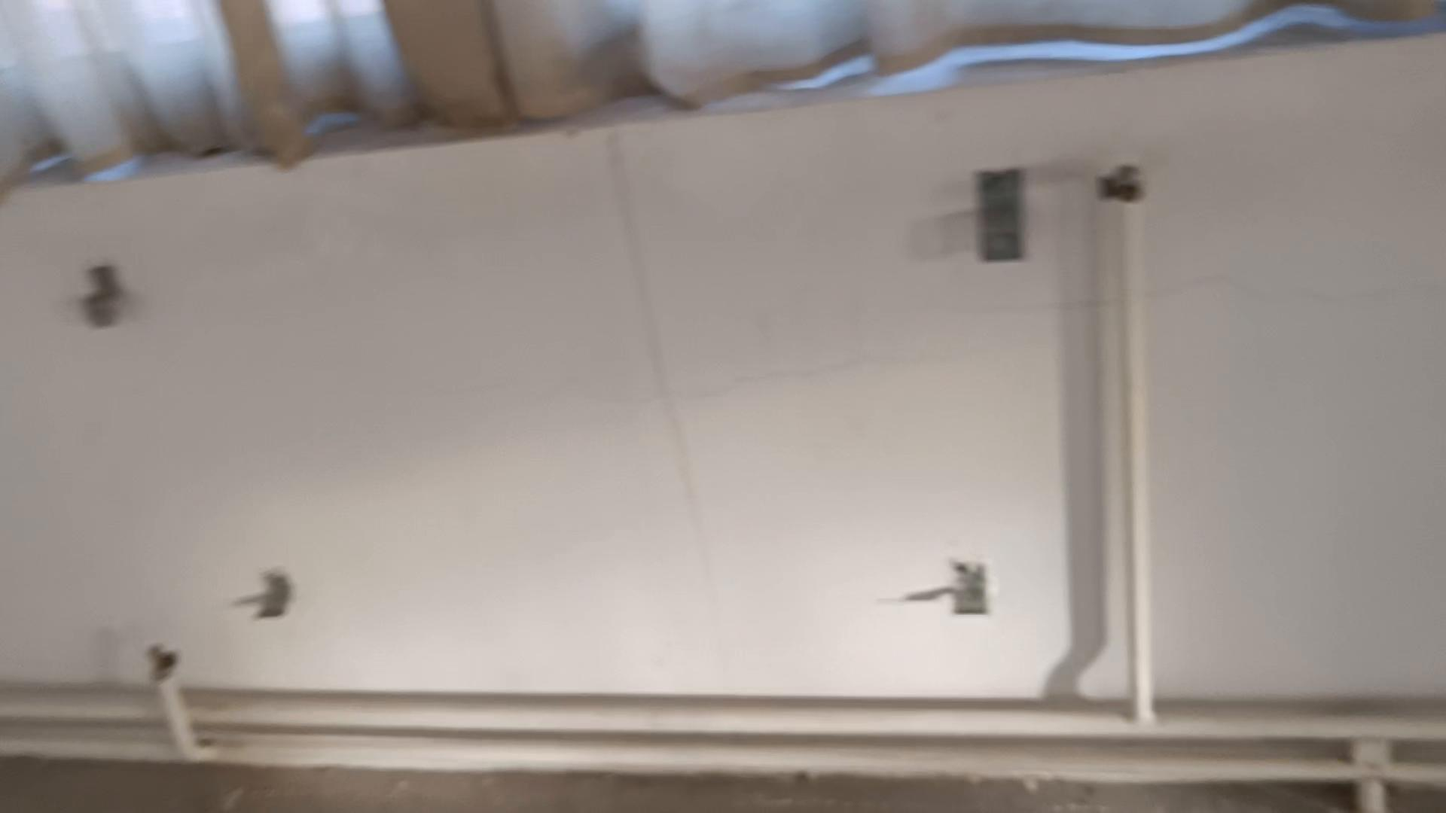ceiling: (0, 0, 1445, 198)
floor: (0, 684, 1445, 812)
pillar: (1097, 165, 1156, 725)
wall: (0, 0, 1445, 809)
